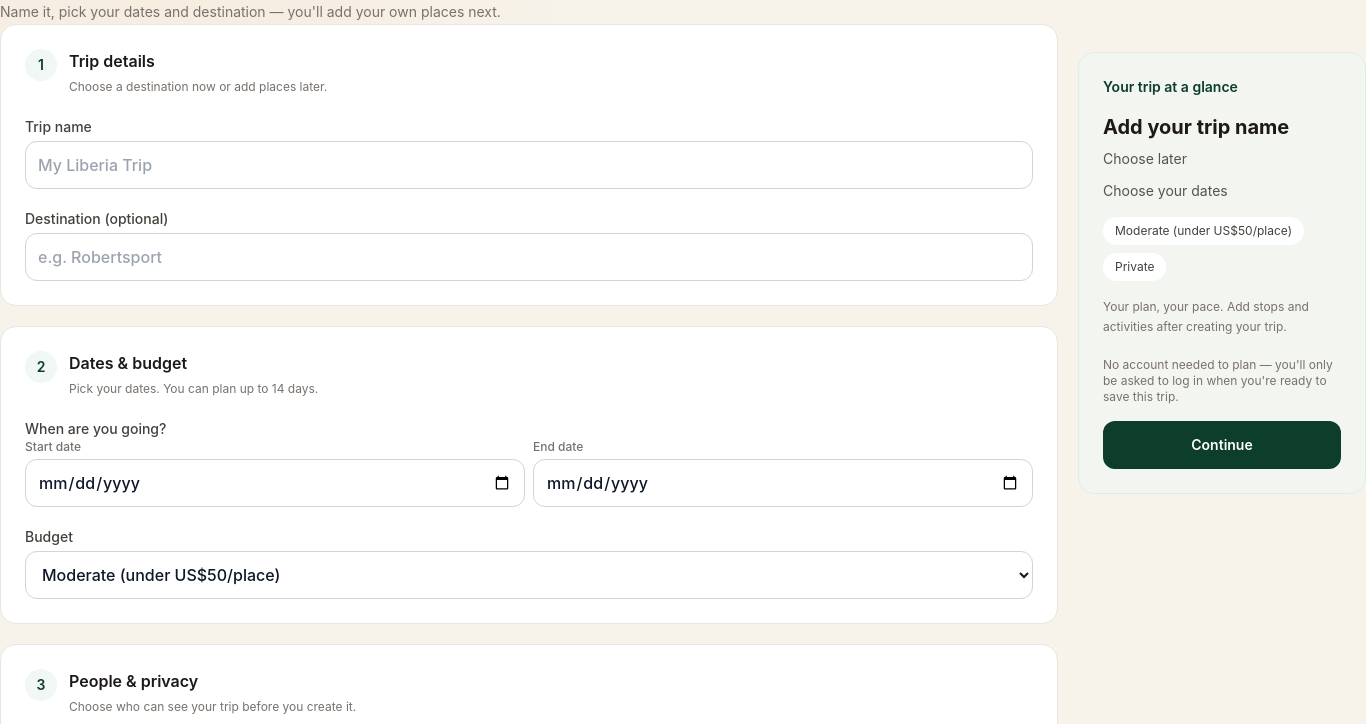
TripPlannerForm › focuses invalid party sizes and prevents submitting them
Type "Weekend away" into the field labelled "Trip name" at (529, 165), box [25,141,1033,189]
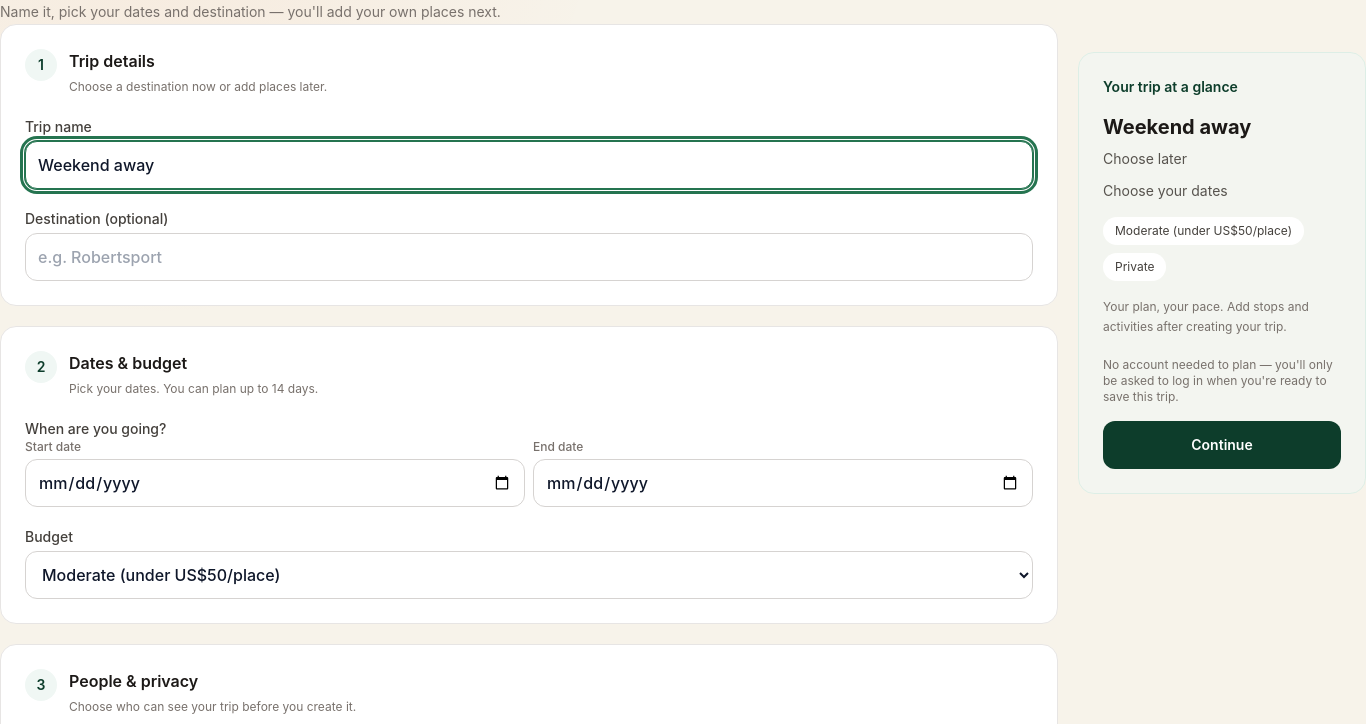
Type "2026-12-01" into the date field labelled "Start date" at (275, 483), box [25,459,525,507]
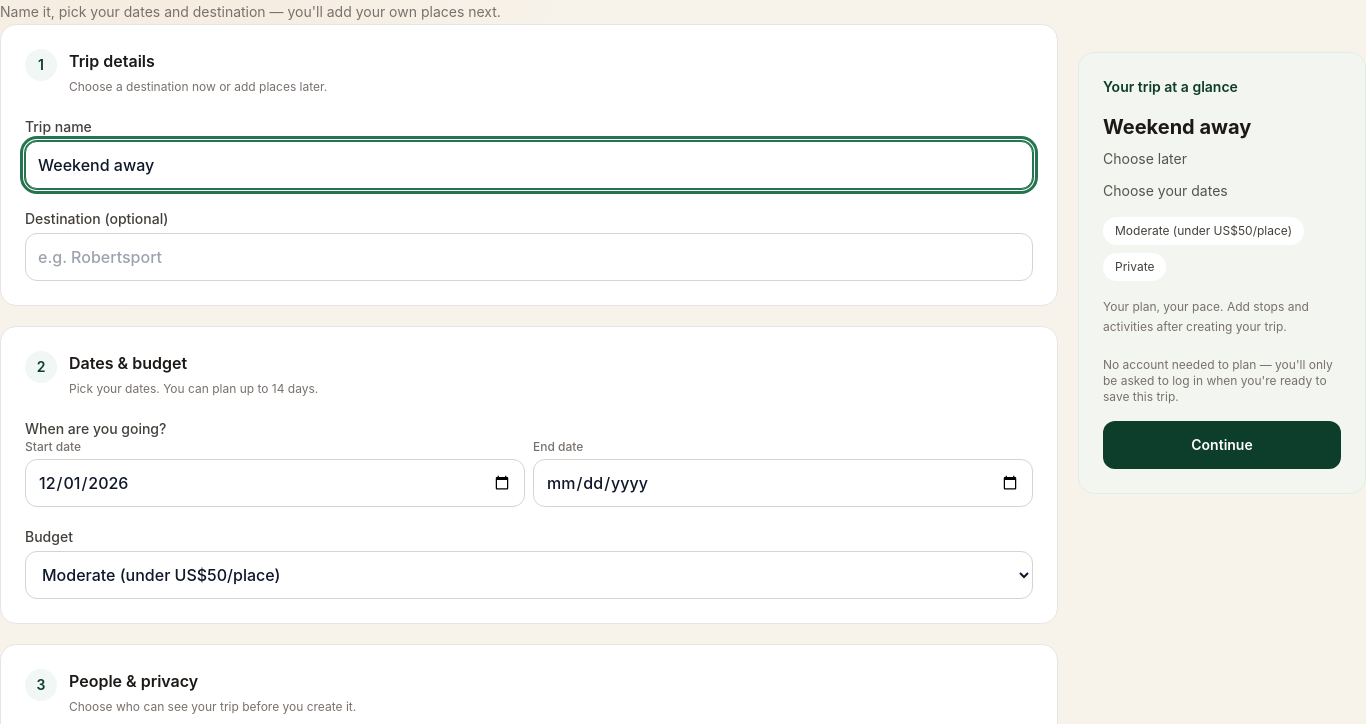
Type "2026-12-03" into the date field labelled "End date" at (783, 483), box [533,459,1033,507]
(page scrolled)
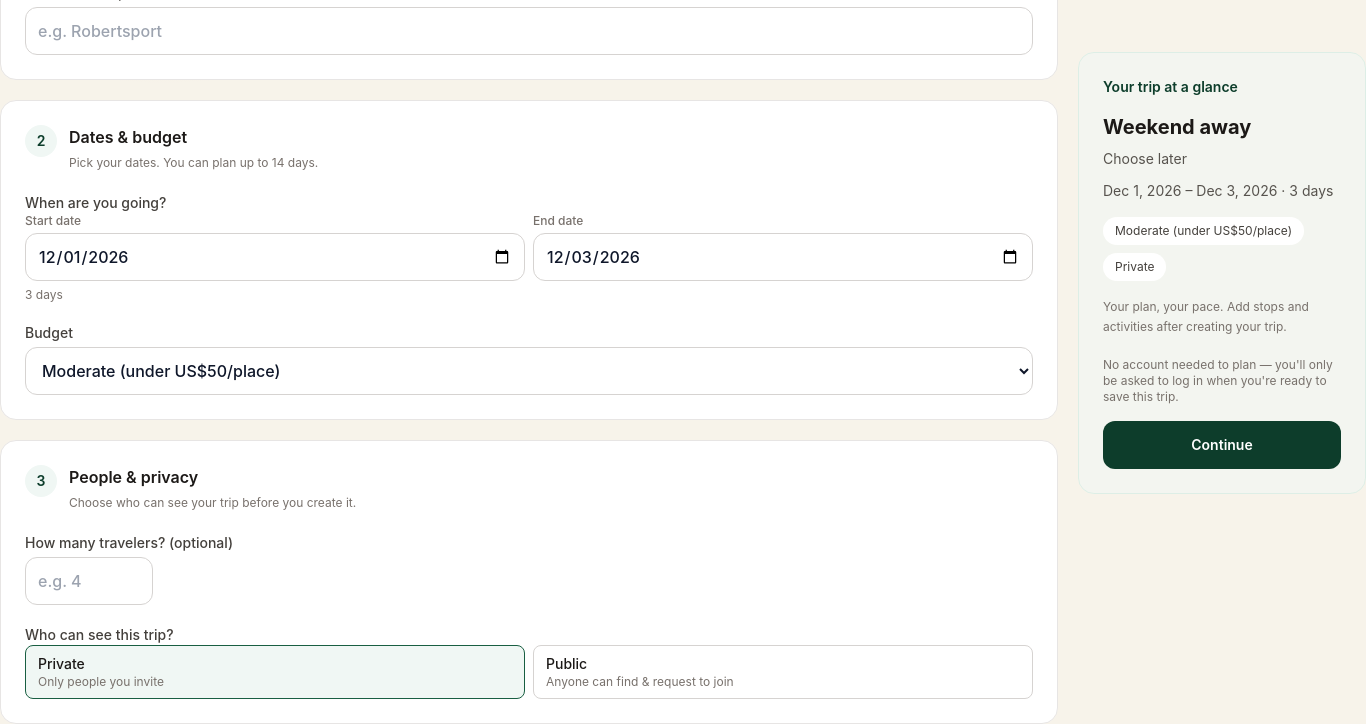
Type "2.5" into the number field labelled "How many travelers? (optional)" at (89, 581), box [25,557,153,605]
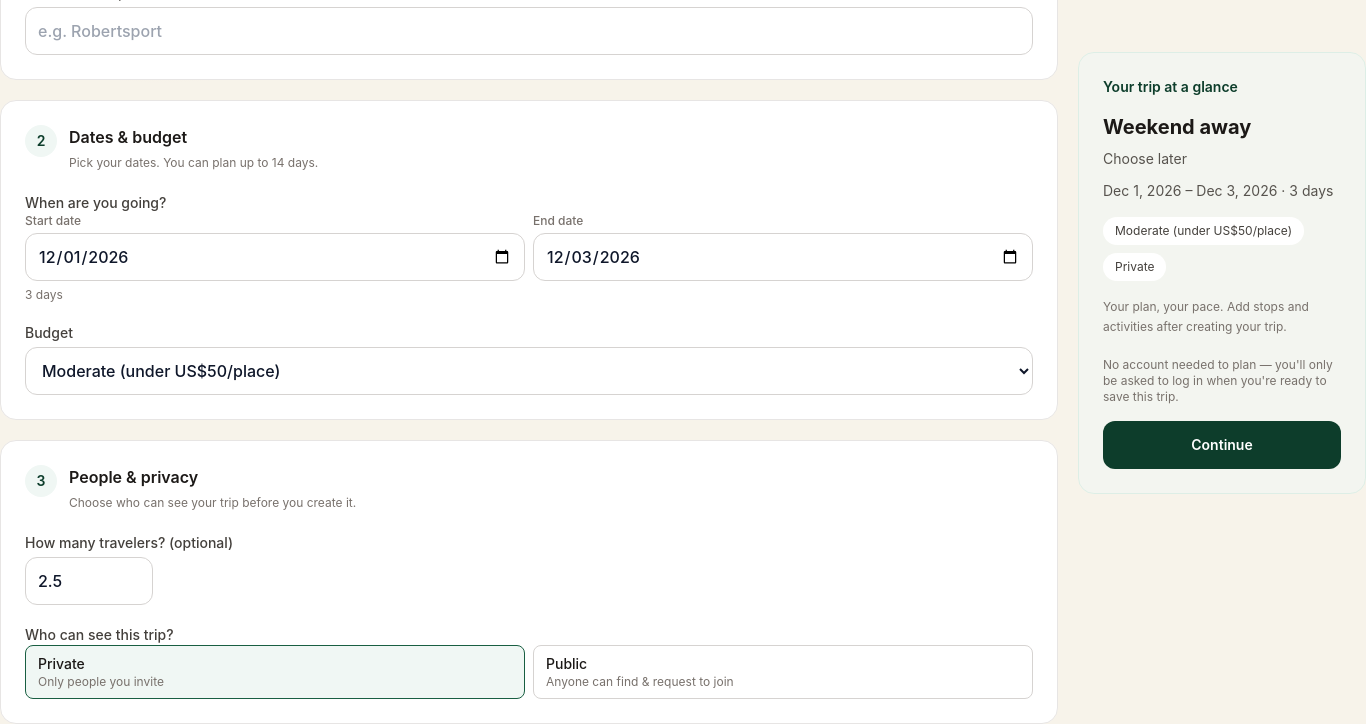
Click the button "Continue" at (1222, 445), box [1103,421,1341,469]
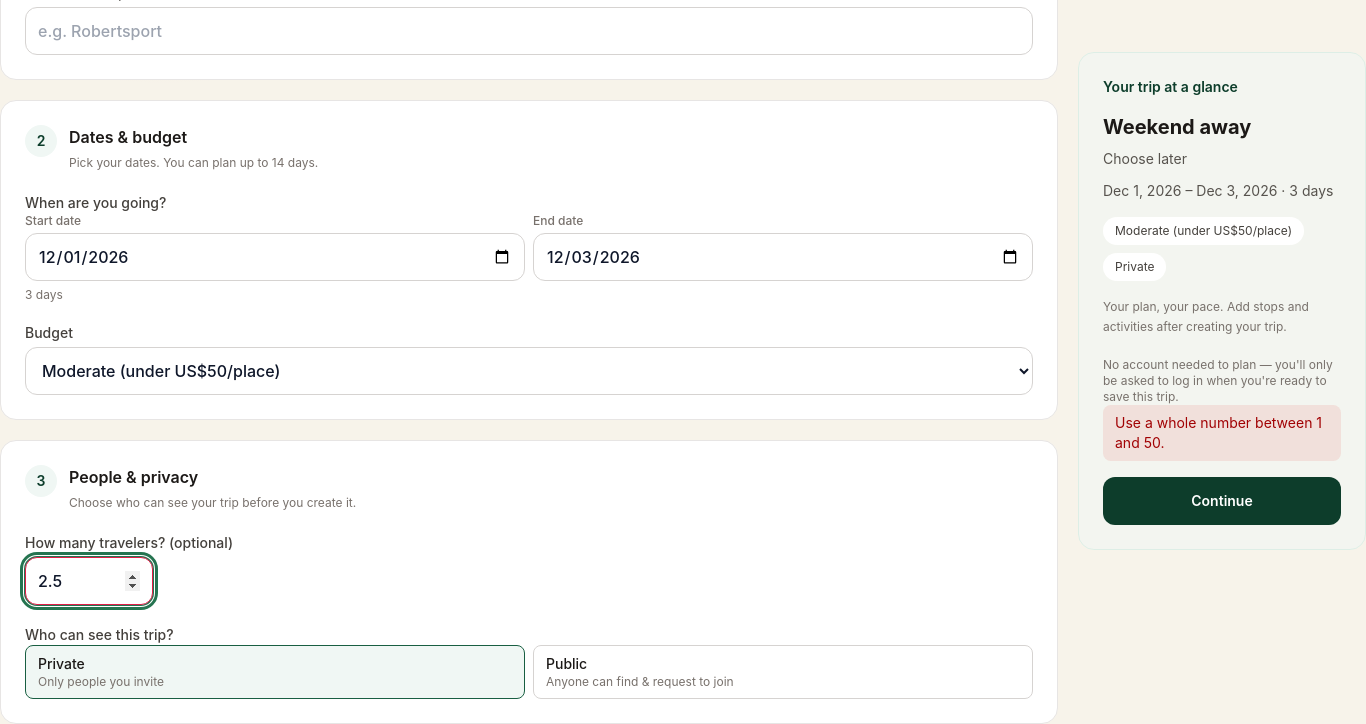
Expected: the message shows "whole number between 1 and 50", [1115,414,1322,451]
